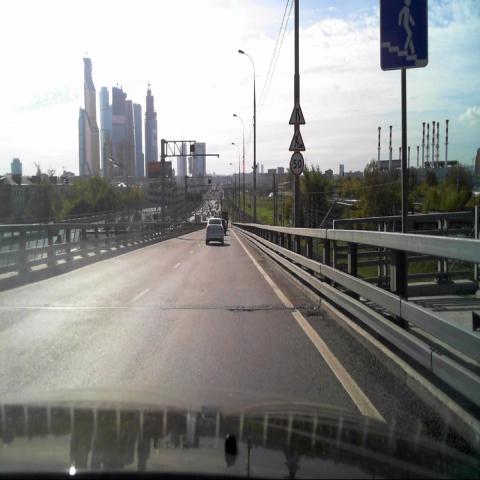3_24: (290, 151, 304, 175)
